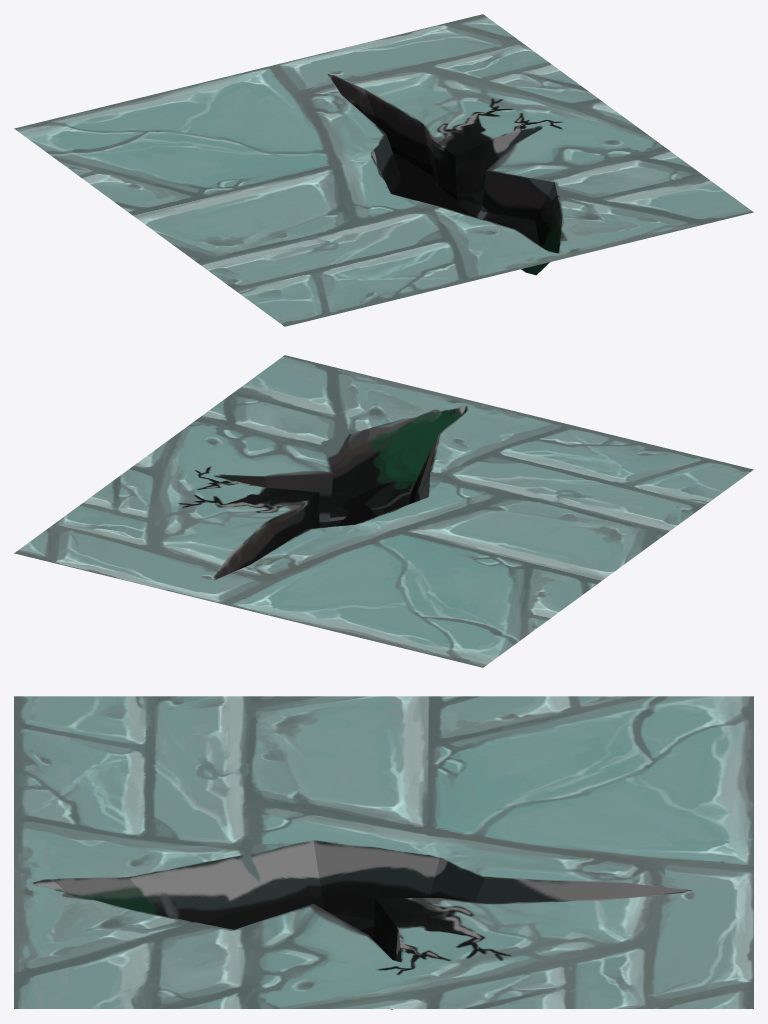
The model's file is cracked_wall.fbx.
The picture shows the model from 3 angles, top to bottom: view 1: azimuth 30°, elevation 25°; view 2: azimuth 150°, elevation 25°; view 3: azimuth 270°, elevation 25°; orthographic projection. The views are drawn at different scales.
Visible parts, largest first — view 1: cracked_wall; view 2: cracked_wall; view 3: cracked_wall.
Boxes of the visible parts, x1=… form: cracked_wall: x1=14, y1=14, x2=753, y2=326; cracked_wall: x1=14, y1=355, x2=753, y2=667; cracked_wall: x1=14, y1=696, x2=753, y2=1009.
Size of the model in its own units: 2 by 0.1783 by 2.
